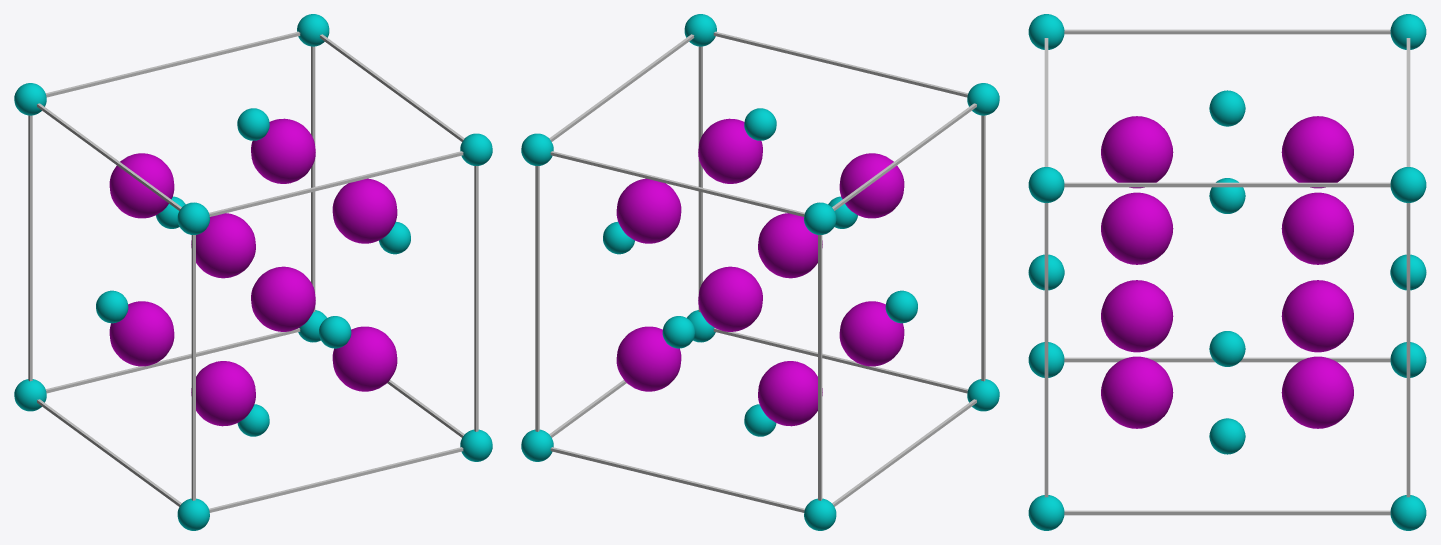
File: fluorita_centrado.glb
3 renders of one model, left to right at view 1: azimuth 30°, elevation 25°; view 2: azimuth 150°, elevation 25°; view 3: azimuth 270°, elevation 25°, orthographic. The views are drawn at different scales.
Parts seen in each view (by area): view 1: atomo23; view 2: atomo23; view 3: atomo23.
Part boxes in pixels (bbox=[...]): atomo23: bbox=[14, 14, 492, 530]; atomo23: bbox=[521, 14, 999, 530]; atomo23: bbox=[1028, 14, 1426, 530].
Bounding box in the file's own units: 1.1 × 1.1 × 1.1.
